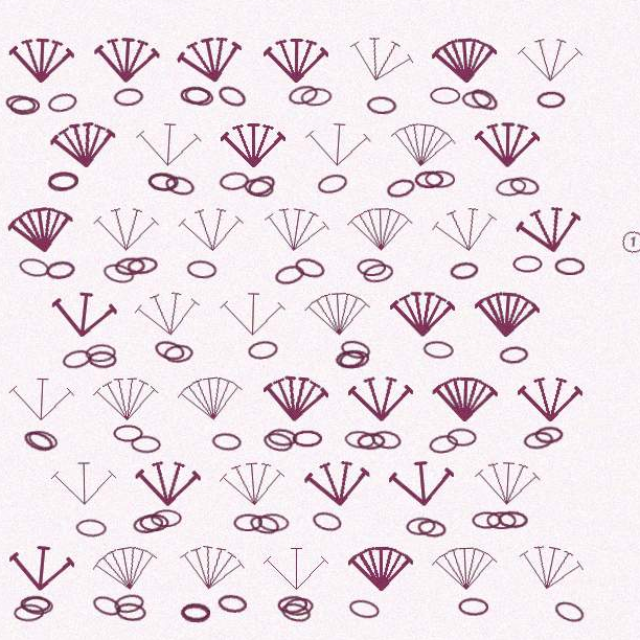chain: (453, 97, 485, 126), (26, 425, 59, 451), (534, 588, 567, 614), (212, 95, 244, 121), (240, 180, 272, 206), (92, 583, 124, 608), (286, 260, 318, 284), (152, 339, 184, 363), (31, 425, 63, 449), (103, 266, 136, 289), (374, 184, 405, 208), (280, 95, 312, 118), (162, 182, 194, 205), (308, 180, 340, 203), (267, 267, 299, 290), (330, 339, 362, 362), (256, 427, 288, 450), (243, 506, 275, 529), (273, 590, 305, 613), (338, 587, 370, 610), (64, 348, 95, 371), (303, 503, 334, 526), (50, 103, 81, 125), (492, 183, 523, 205), (23, 261, 54, 283), (352, 266, 383, 288), (114, 582, 145, 604), (181, 97, 211, 119), (10, 105, 41, 126), (238, 185, 269, 206), (242, 340, 273, 361), (329, 349, 360, 370), (360, 426, 391, 447), (415, 430, 445, 451), (404, 511, 434, 532), (479, 185, 510, 205), (132, 507, 163, 527), (51, 180, 81, 200), (215, 179, 245, 199), (127, 260, 157, 280), (435, 265, 465, 285), (506, 427, 536, 447), (116, 591, 146, 611), (213, 583, 243, 603), (293, 99, 324, 118), (252, 506, 283, 525), (147, 180, 176, 200), (49, 264, 78, 284), (162, 344, 191, 364), (326, 349, 355, 369), (277, 586, 306, 606), (114, 99, 144, 118), (356, 107, 386, 126), (447, 102, 477, 121), (147, 180, 177, 199), (115, 261, 145, 280), (184, 264, 214, 283), (87, 344, 117, 363), (410, 341, 440, 360), (261, 425, 291, 444), (335, 427, 365, 446), (483, 346, 512, 365), (208, 429, 237, 448), (178, 593, 207, 612), (78, 512, 108, 530), (481, 504, 511, 522), (27, 586, 57, 604), (15, 108, 44, 126), (178, 98, 207, 116), (131, 432, 160, 450), (433, 425, 462, 443), (394, 510, 423, 528), (25, 585, 54, 603), (19, 593, 48, 611), (271, 585, 300, 603), (444, 587, 473, 605), (150, 503, 180, 520), (90, 351, 118, 369), (347, 429, 375, 447), (517, 423, 545, 441), (179, 592, 207, 610), (417, 99, 446, 116), (52, 180, 81, 197), (412, 179, 441, 196), (496, 260, 525, 277), (536, 262, 565, 279), (114, 422, 143, 439), (285, 427, 314, 444), (139, 507, 168, 524), (457, 505, 486, 522), (471, 505, 500, 522), (519, 103, 547, 120), (402, 179, 430, 196), (347, 263, 375, 280), (229, 507, 257, 524)
fan: (334, 44, 405, 103), (497, 531, 567, 588), (173, 45, 242, 102), (497, 208, 566, 264), (92, 532, 161, 588), (174, 532, 242, 587), (255, 209, 323, 263), (417, 209, 485, 263), (12, 209, 79, 263), (133, 290, 200, 343), (174, 371, 241, 424), (53, 129, 119, 181), (377, 129, 443, 181), (53, 291, 119, 343), (296, 453, 362, 504), (256, 372, 321, 423), (377, 453, 442, 504), (13, 534, 78, 585), (418, 49, 483, 99), (458, 292, 523, 342), (215, 454, 280, 504), (95, 49, 159, 98), (135, 130, 199, 179), (297, 130, 361, 179), (297, 292, 361, 341), (459, 454, 523, 503), (176, 212, 240, 260), (14, 50, 77, 98), (14, 374, 77, 422), (95, 374, 158, 422), (419, 374, 482, 422), (419, 536, 482, 584), (95, 212, 158, 259), (338, 212, 401, 259), (216, 293, 279, 340), (135, 455, 198, 502), (501, 50, 563, 97), (460, 131, 522, 178), (379, 293, 441, 340), (339, 374, 401, 421), (55, 455, 117, 502), (258, 51, 320, 97), (217, 132, 279, 178), (501, 375, 563, 421), (258, 537, 320, 583), (339, 537, 401, 583)
noise: (598, 234, 624, 260), (619, 238, 640, 261), (621, 239, 634, 252)
